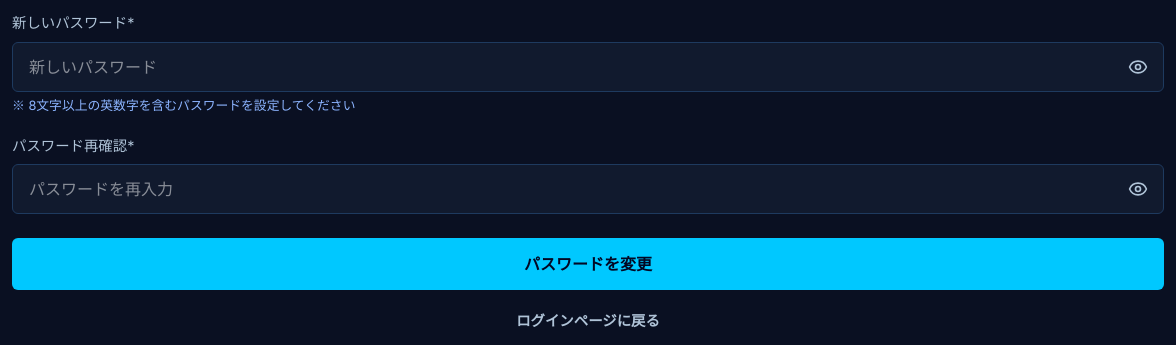
Scenario: PasswordResetForm › Form Submission › should show success message after successful reset
In the password field labelled "新しいパスワード*": (588, 67) [12,42,1164,92], type "newpassword123"
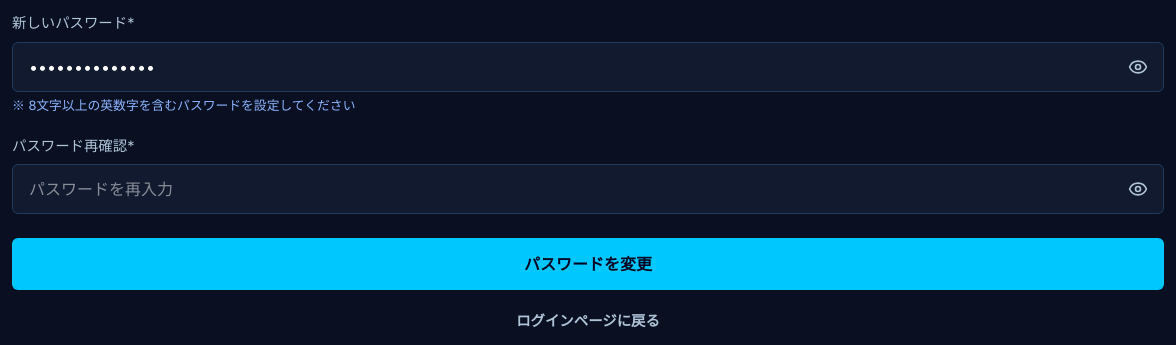
In the password field labelled "パスワード再確認*": (588, 189) [12,164,1164,214], type "newpassword123"
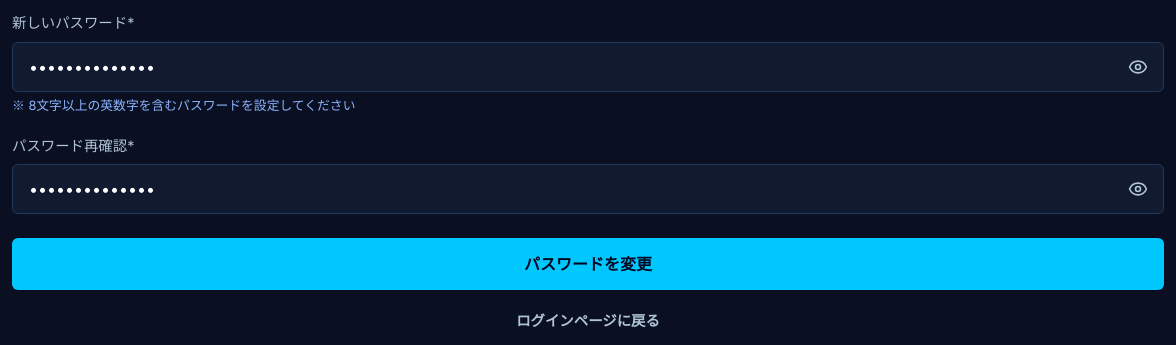
Click the button "パスワードを変更": (588, 264) [12,238,1164,290]
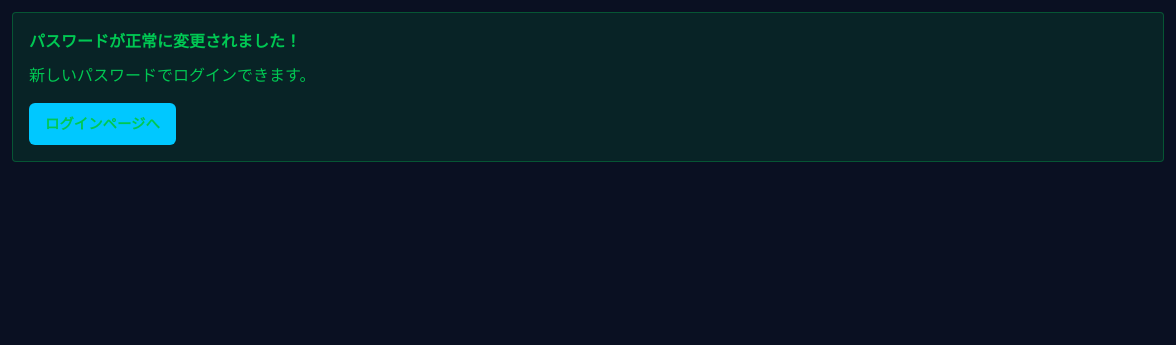
Expected: the text "パスワードが正常に変更されました！" is shown, [29,31,301,51]
Expected: the link "ログインページへ" is shown, [29,103,176,145]
